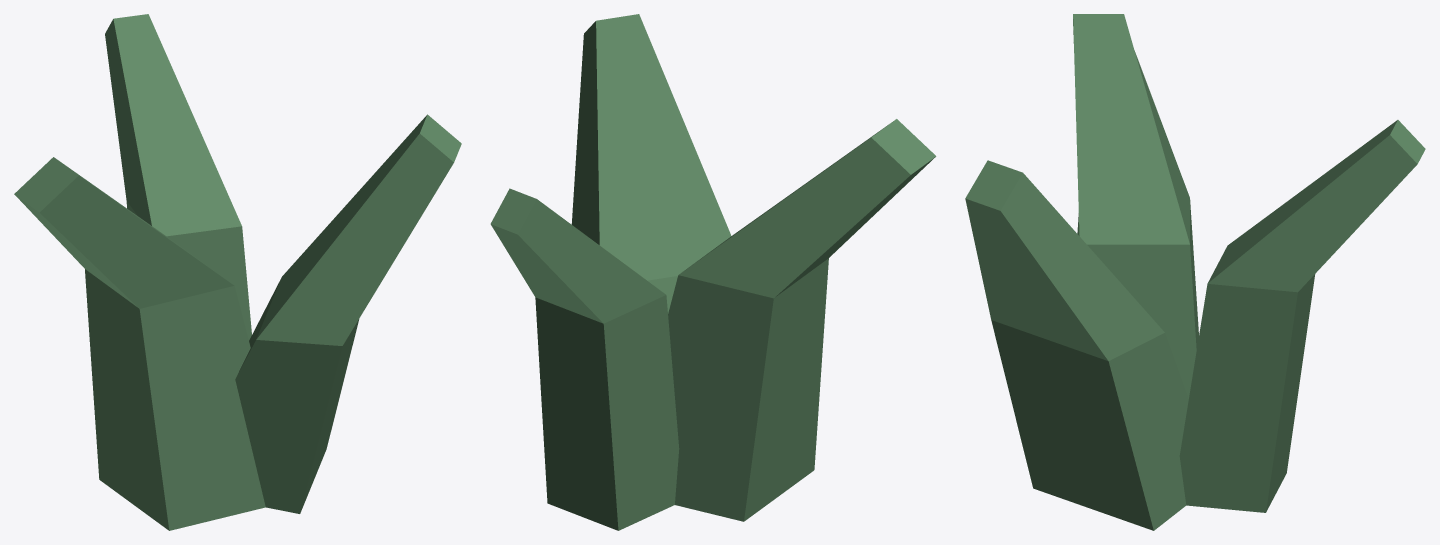
Rendered from Grass002.glb.
3 renders of one model, left to right at view 1: azimuth 30°, elevation 25°; view 2: azimuth 150°, elevation 25°; view 3: azimuth 270°, elevation 25°, orthographic.
Parts seen in each view (by area): view 1: Grass.002; view 2: Grass.002; view 3: Grass.002.
Boxes of the visible parts, x1=… form: Grass.002: x1=14, y1=14, x2=461, y2=530; Grass.002: x1=490, y1=14, x2=936, y2=530; Grass.002: x1=965, y1=14, x2=1425, y2=530.
Bounding box in the file's own units: 0.2088 × 0.193 × 0.2142.
